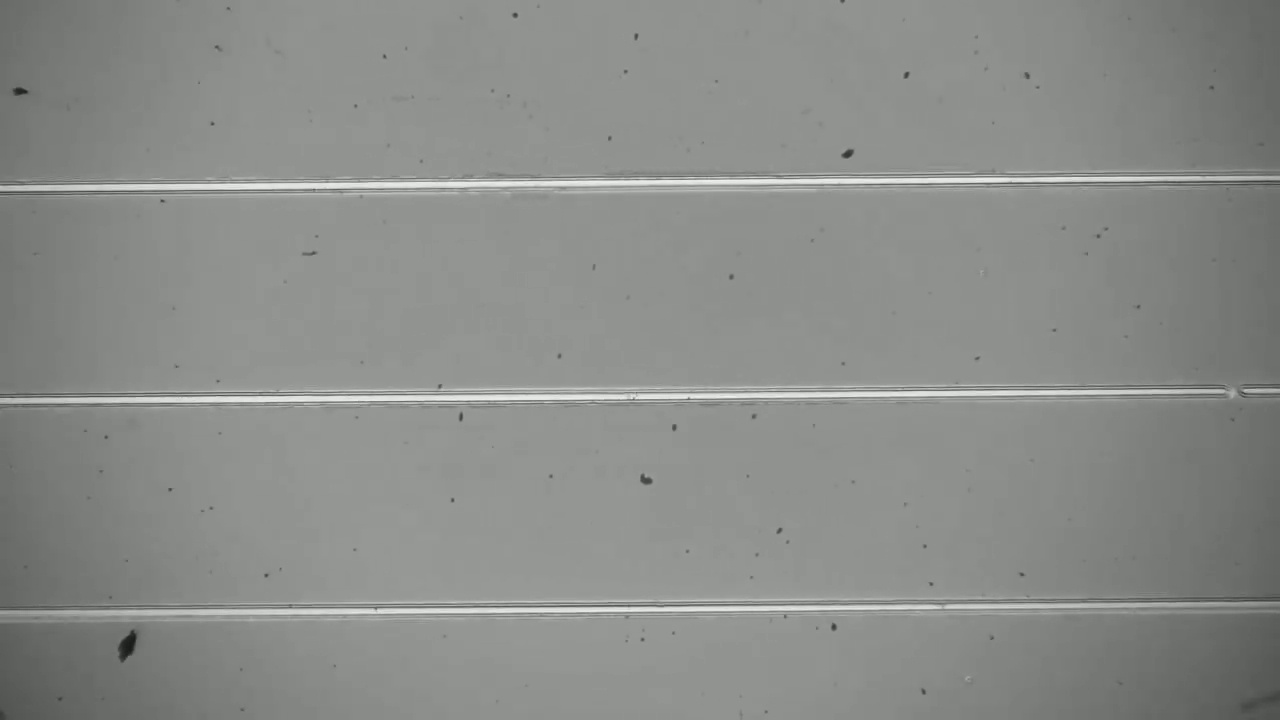open: (1208, 376, 1255, 407)
